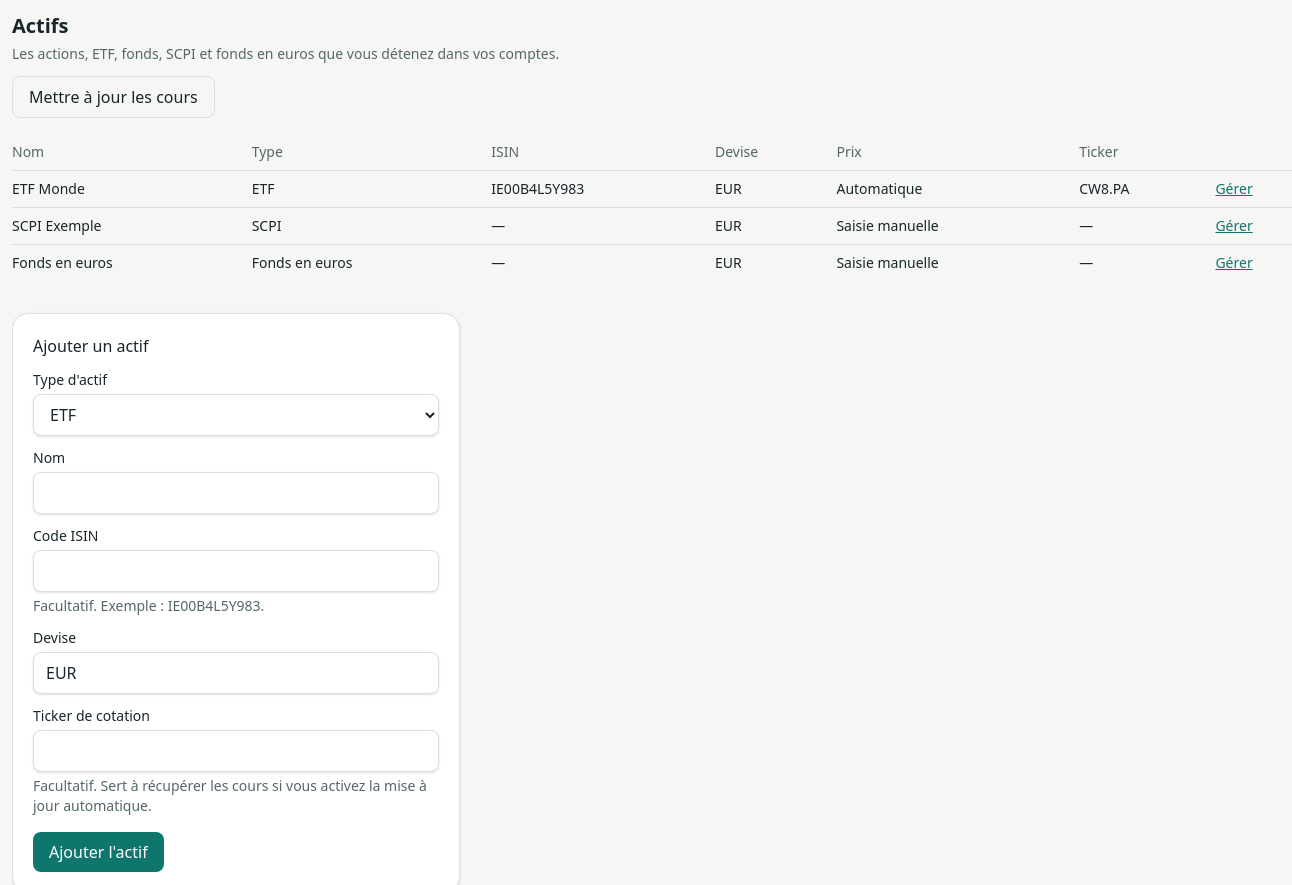
Test: mise à jour des cours › explique un échec et rassure sur les prix déjà connus
Click the button "Mettre à jour les cours": click(113, 97) left=12, top=76, right=215, bottom=118
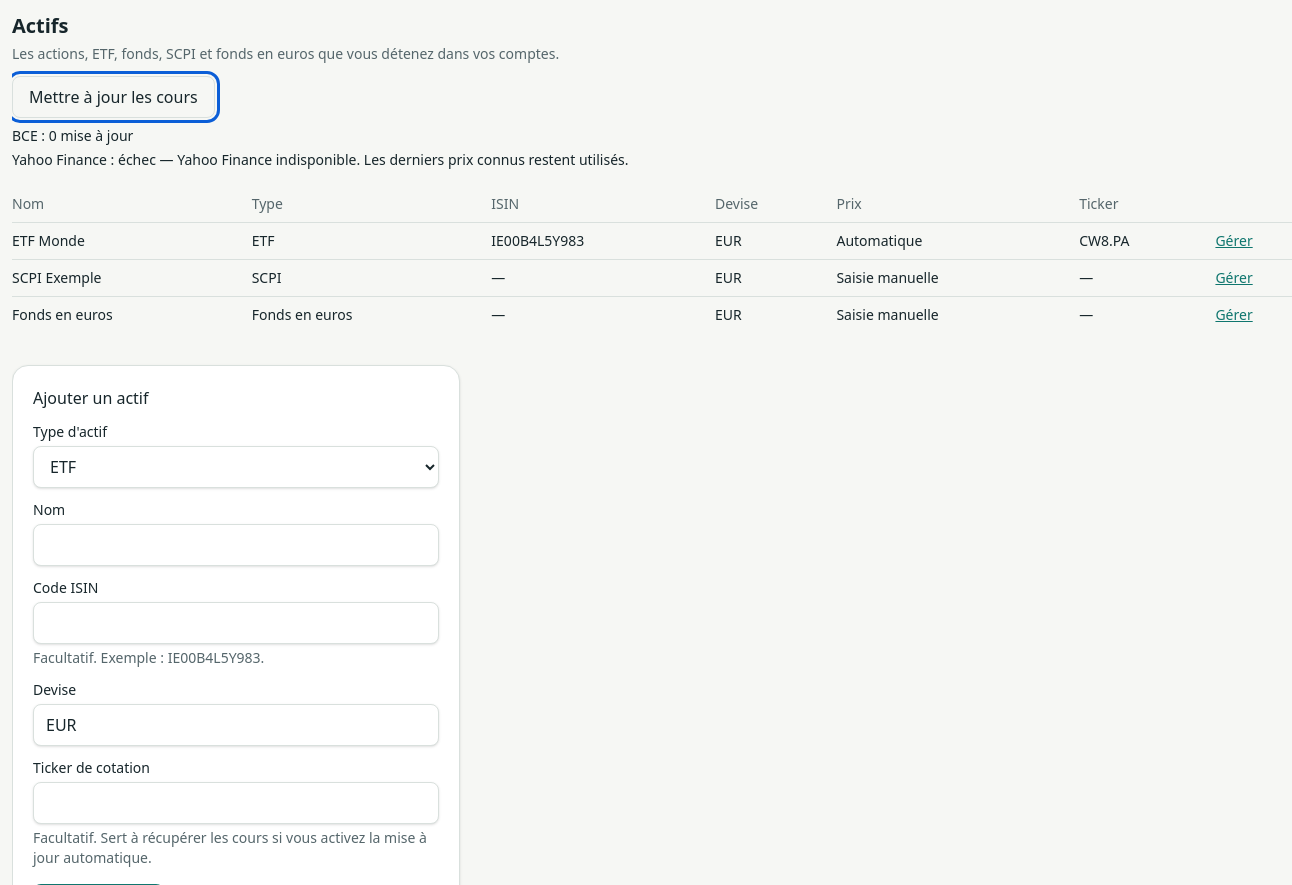
Result: the message shows "Yahoo Finance indisponible" at left=12, top=150, right=628, bottom=169
Result: the message shows "derniers prix connus" at left=12, top=150, right=628, bottom=169
